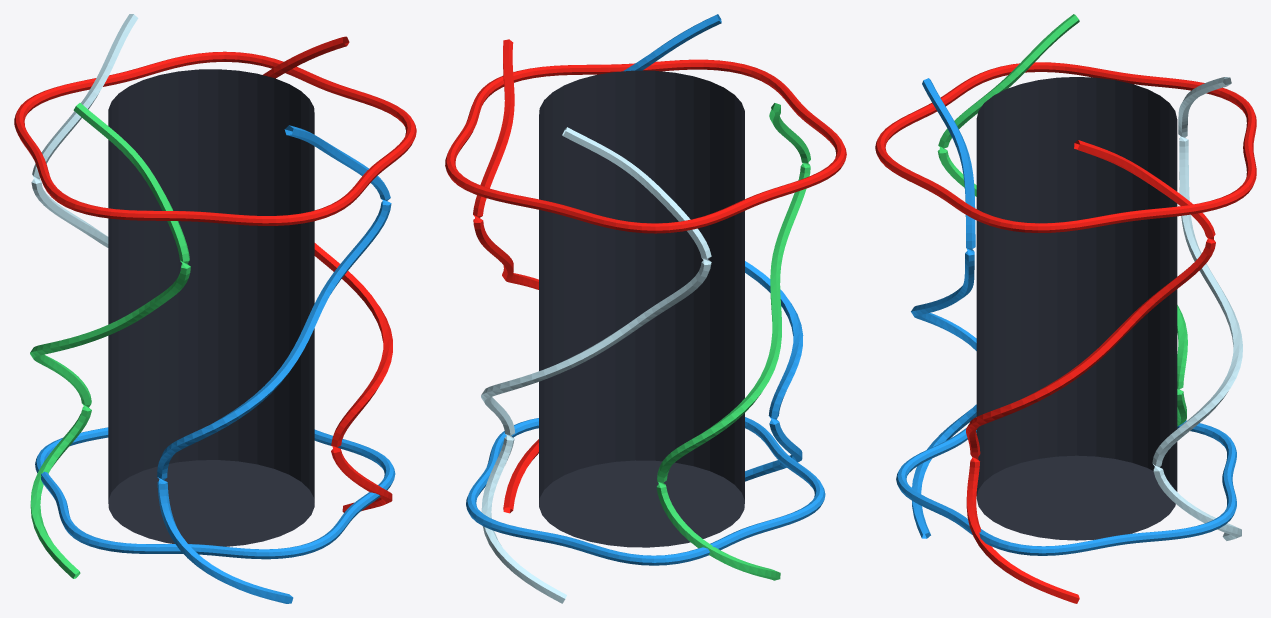
The model's file is VFX_Elemental_Bending.obj.
The picture shows the model from 3 angles, left to right: view 1: azimuth 30°, elevation 25°; view 2: azimuth 150°, elevation 25°; view 3: azimuth 270°, elevation 25°; orthographic projection. The views are drawn at different scales.
Visible parts, largest first — view 1: CenterCylinder, ElementStream, ElementOrbit; view 2: CenterCylinder, ElementStream, ElementOrbit; view 3: CenterCylinder, ElementStream, ElementOrbit.
Part boxes in pixels (left/top/right/bottom): CenterCylinder: left=108, top=69, right=314, bottom=546; ElementStream: left=30, top=14, right=392, bottom=603; ElementOrbit: left=14, top=51, right=416, bottom=559; CenterCylinder: left=539, top=70, right=744, bottom=547; ElementStream: left=473, top=14, right=810, bottom=603; ElementOrbit: left=445, top=59, right=846, bottom=565; CenterCylinder: left=976, top=77, right=1177, bottom=540; ElementStream: left=911, top=14, right=1242, bottom=603; ElementOrbit: left=875, top=62, right=1256, bottom=555.
Size of the model in its own units: 1.87 by 2.44 by 1.83.
